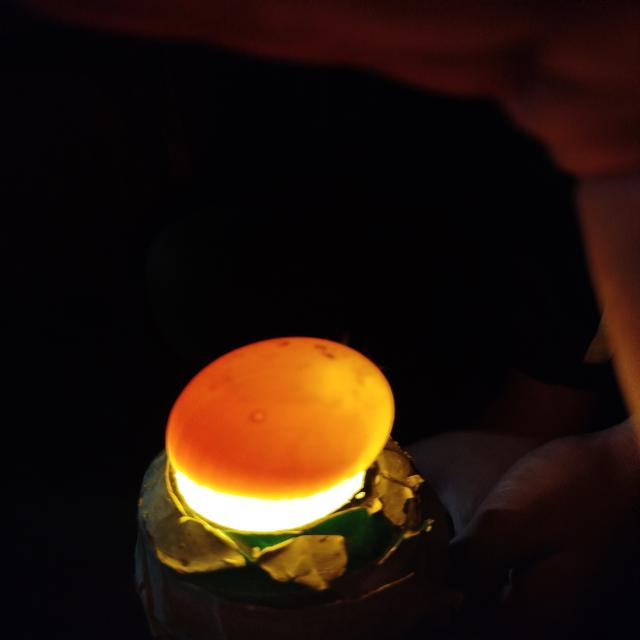Gema Quebrada: (174, 386, 353, 483)
